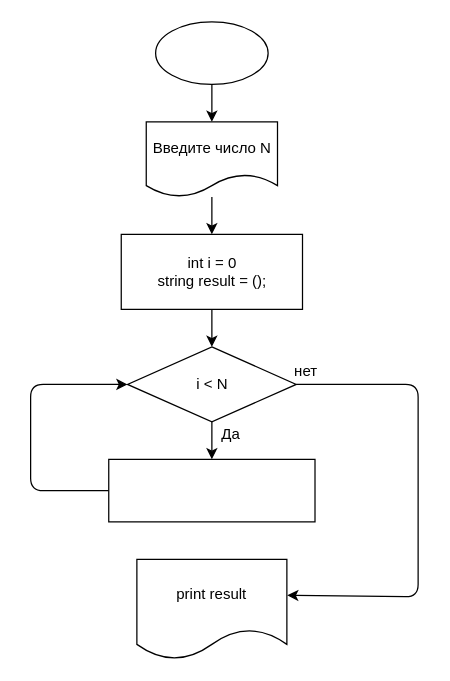
The diagram is 450 pixels wide and 681 high, and some of its shapes have lost their labels. The shapes that lost their labels are listed below. From the top down, each one's box as (x1, y1, x2, y2) in pixels, then its label:
(154, 21, 268, 84): Начало
(108, 458, 315, 522): result = result +i*i*i ", "; i++
